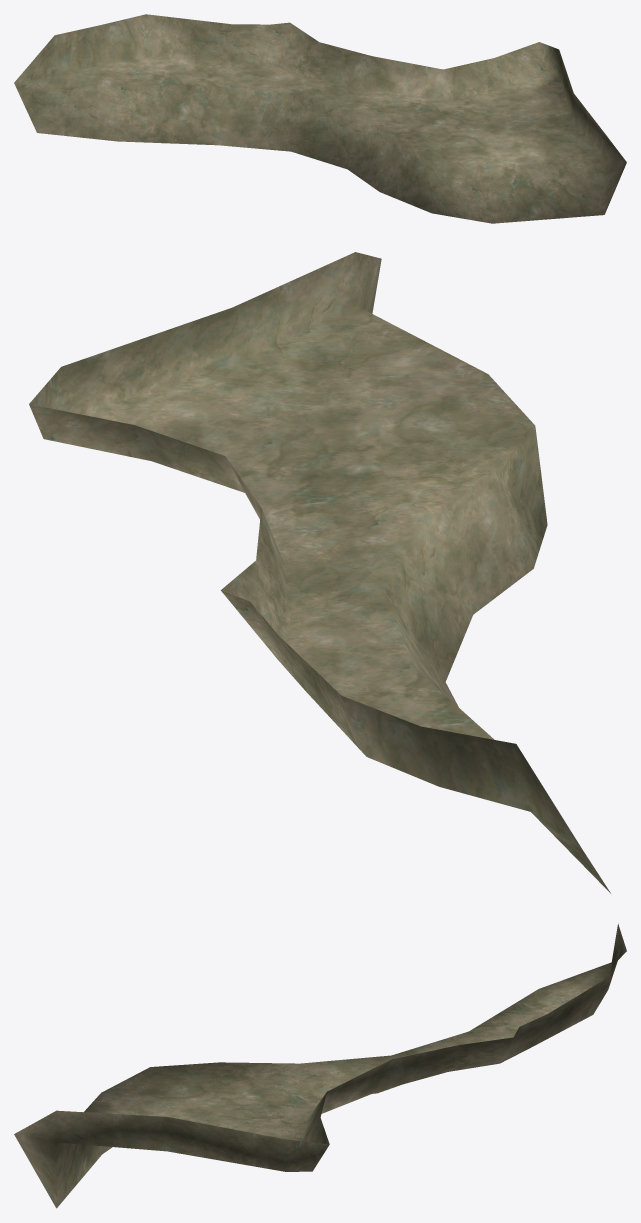
The model's file is EKH_GROTTO_PS_GR_OBJECT11.fbx.
3 views of the same model, one above another, from view 1: azimuth 30°, elevation 25°; view 2: azimuth 150°, elevation 25°; view 3: azimuth 270°, elevation 25° (orthographic). The views are drawn at different scales.
Parts seen in each view (by area): view 1: EKH_GROTTO_PS_GR_OBJECT11; view 2: EKH_GROTTO_PS_GR_OBJECT11; view 3: EKH_GROTTO_PS_GR_OBJECT11.
Part boxes in pixels (bbox=[...]): EKH_GROTTO_PS_GR_OBJECT11: bbox=[14, 14, 626, 223]; EKH_GROTTO_PS_GR_OBJECT11: bbox=[29, 252, 610, 893]; EKH_GROTTO_PS_GR_OBJECT11: bbox=[14, 923, 626, 1208].
Size of the model in its own units: 49519 by 10047 by 54535.
Materials: 1 (1 with a texture image).
